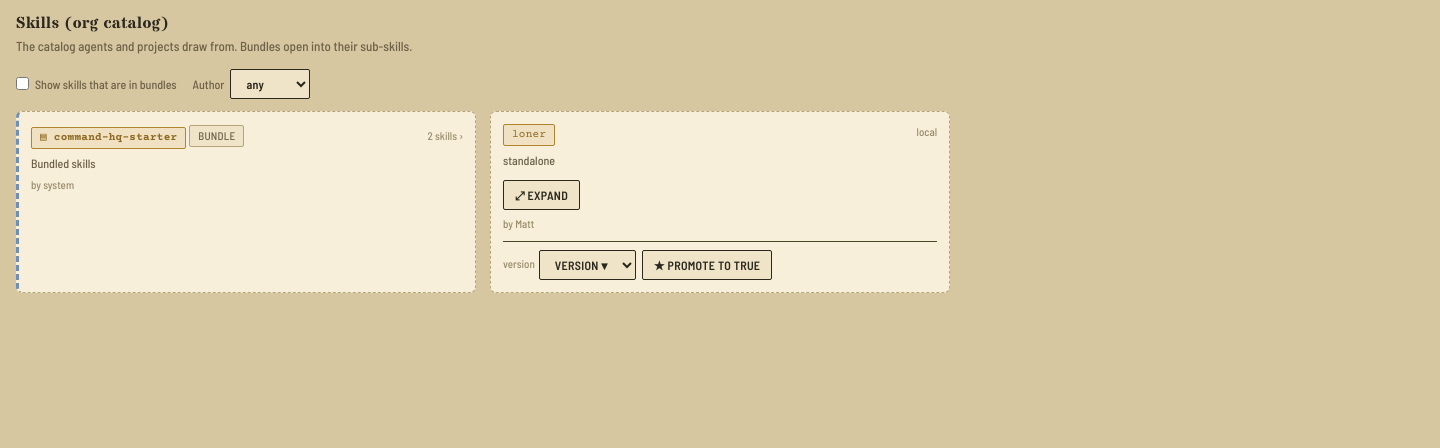
it: Skills scope controls (U17) › hides bundle members from the top-level grid by default, reveals on toggle
Expected: the link with test id "skill-card-command-hq-starter" is shown, [16,110,476,292]
Expected: the element with test id "skill-card-loner" is shown, [490,110,950,292]
Click the checkbox with test id "show-in-bundles-checkbox".
click(22, 84)  # box [16,77,29,90]
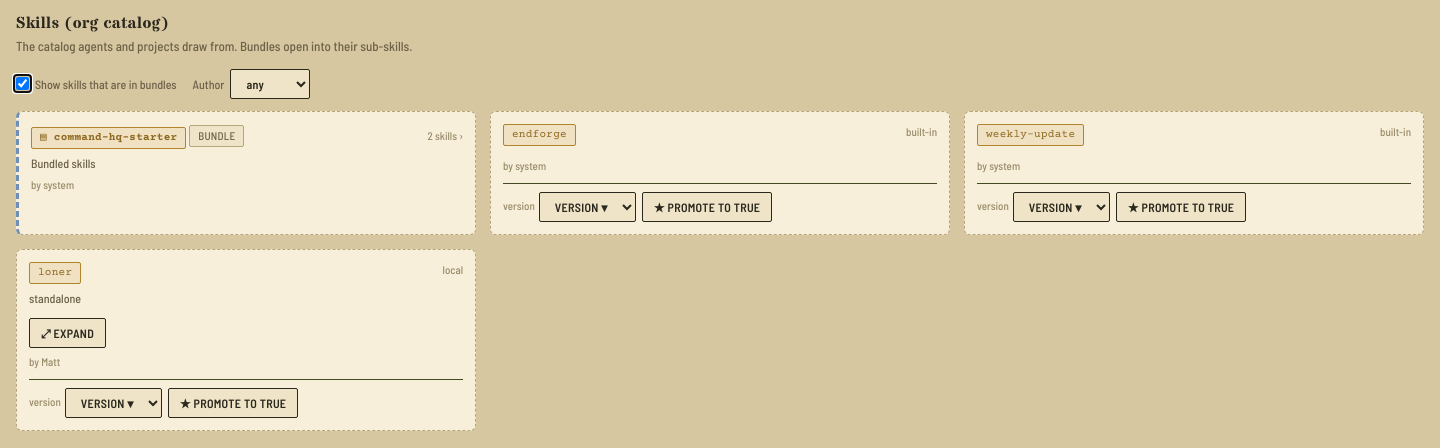
Expected: the link with test id "skill-card-command-hq-starter" is shown, [16,110,476,234]
Expected: the element with test id "skill-card-endforge" is shown, [490,110,950,234]
Expected: the element with test id "skill-card-weekly-update" is shown, [964,110,1424,234]
